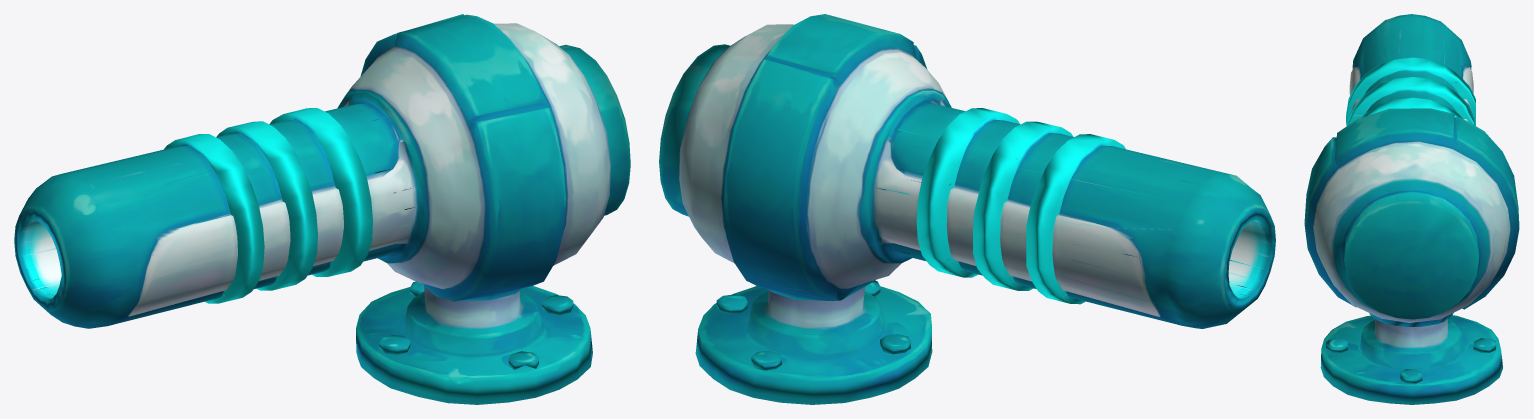
The model's file is weapon_laser.glb.
3 views of the same model, side by side, from view 1: azimuth 30°, elevation 25°; view 2: azimuth 150°, elevation 25°; view 3: azimuth 270°, elevation 25° (orthographic). The views are drawn at different scales.
Visible parts, largest first — view 1: geometry_0; view 2: geometry_0; view 3: geometry_0.
Part boxes in pixels (left/top/right/bottom): geometry_0: left=14, top=14, right=630, bottom=404; geometry_0: left=659, top=14, right=1275, bottom=404; geometry_0: left=1304, top=14, right=1519, bottom=404.
Bounding box in the file's own units: 0.9551 × 0.542 × 0.4312.
Materials: 1 (1 with a texture image).
